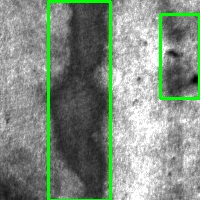patches: (48, 1, 110, 200), (160, 14, 199, 98)
